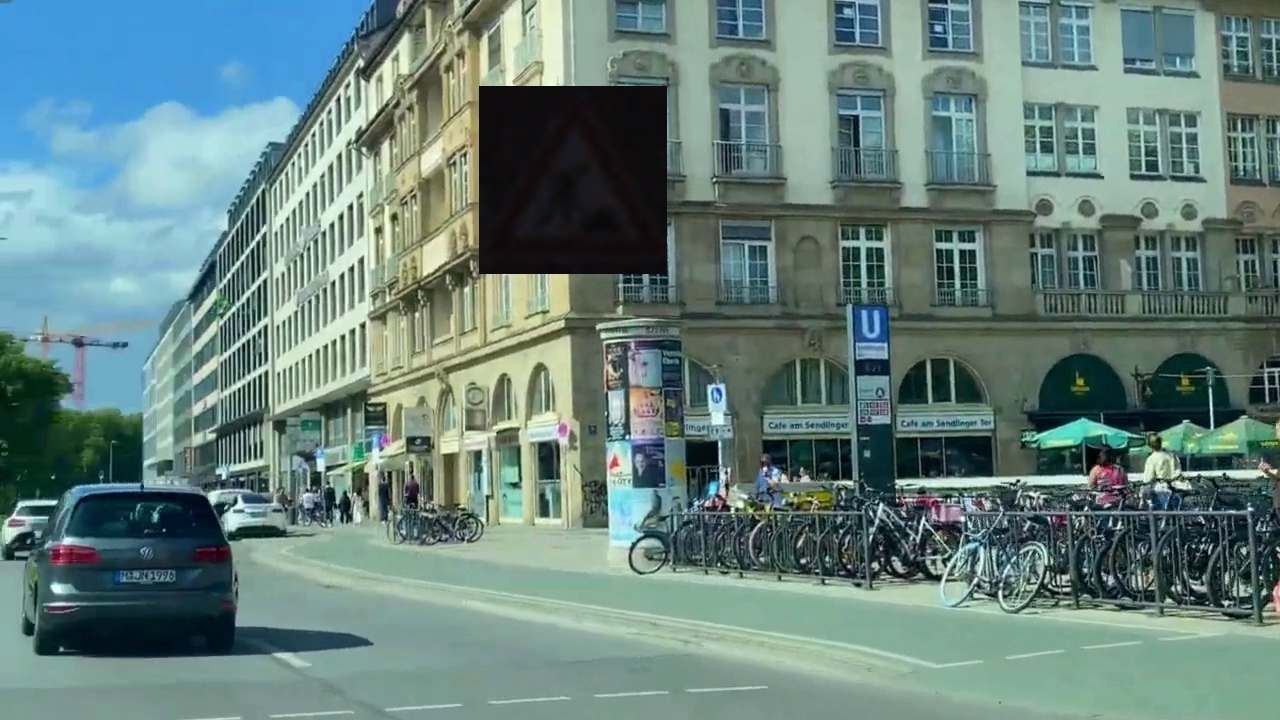Road work: (479, 86, 667, 274)
